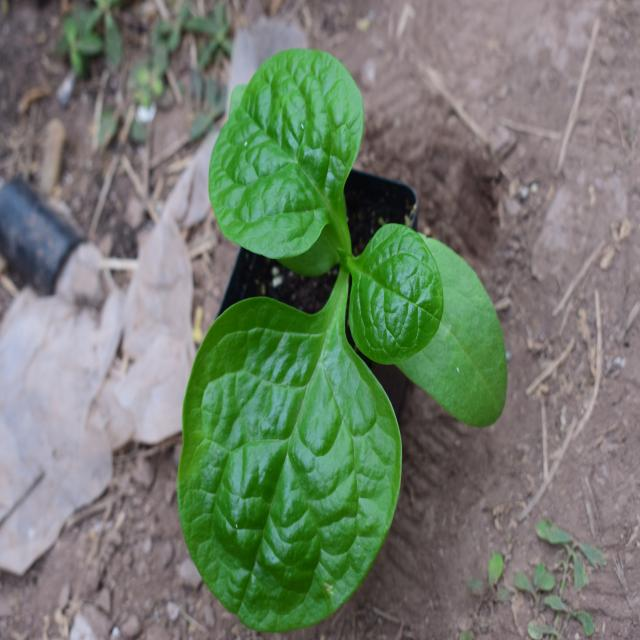Ceylon spinach: (180, 68, 490, 605)
